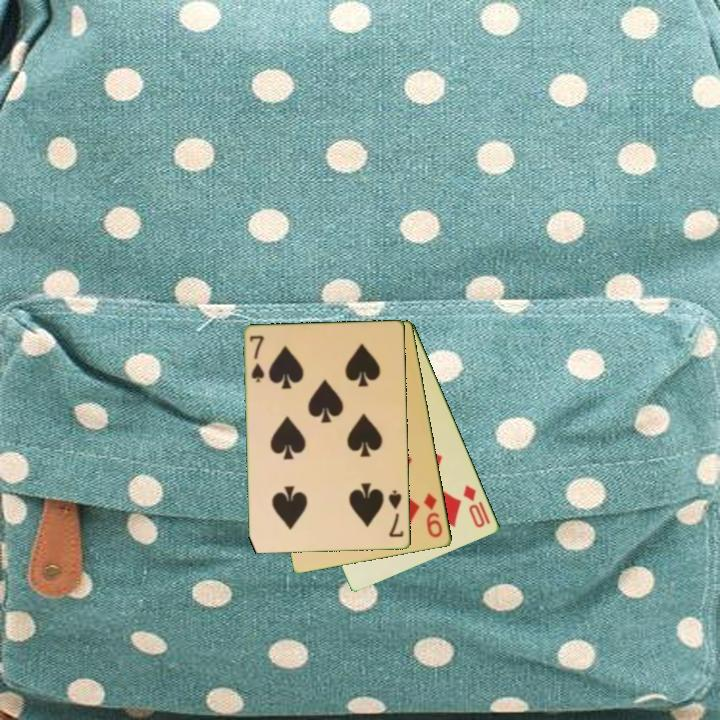10d: (460, 482, 488, 531)
7s: (246, 332, 268, 386), (385, 487, 407, 540)
9d: (421, 490, 446, 541)
